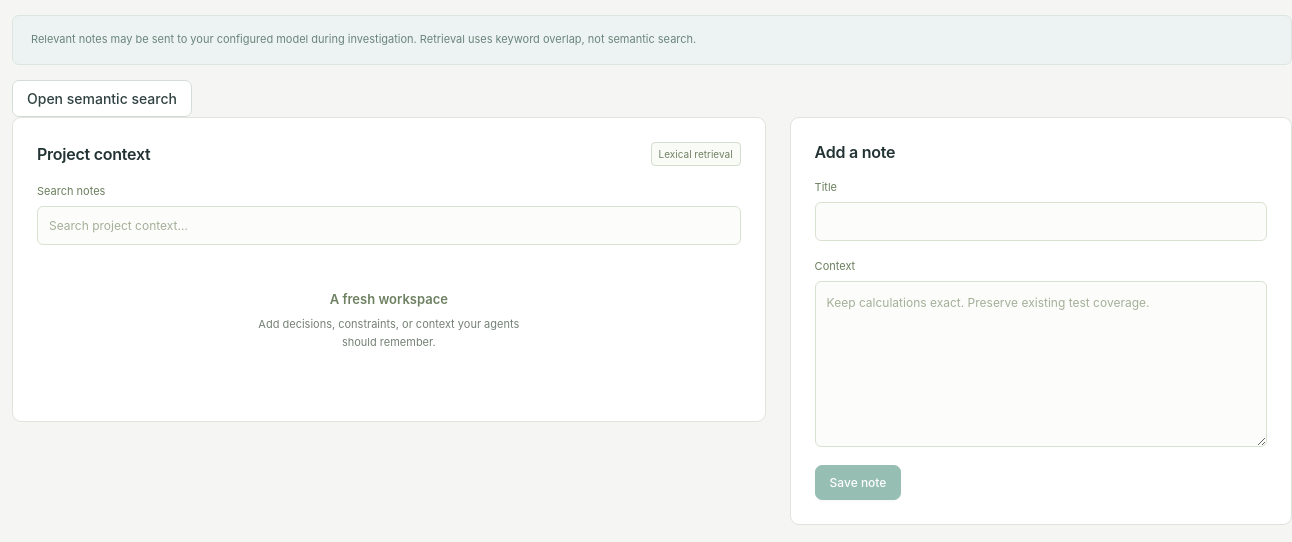
Test: a canceled memory search cannot replace newer results
expect the heading "A fresh workspace" is shown: met, box [330, 291, 448, 307]
Type "ab" into the search field labelled "Search notes".
click(389, 225); type("ab")  # box [37, 206, 741, 245]
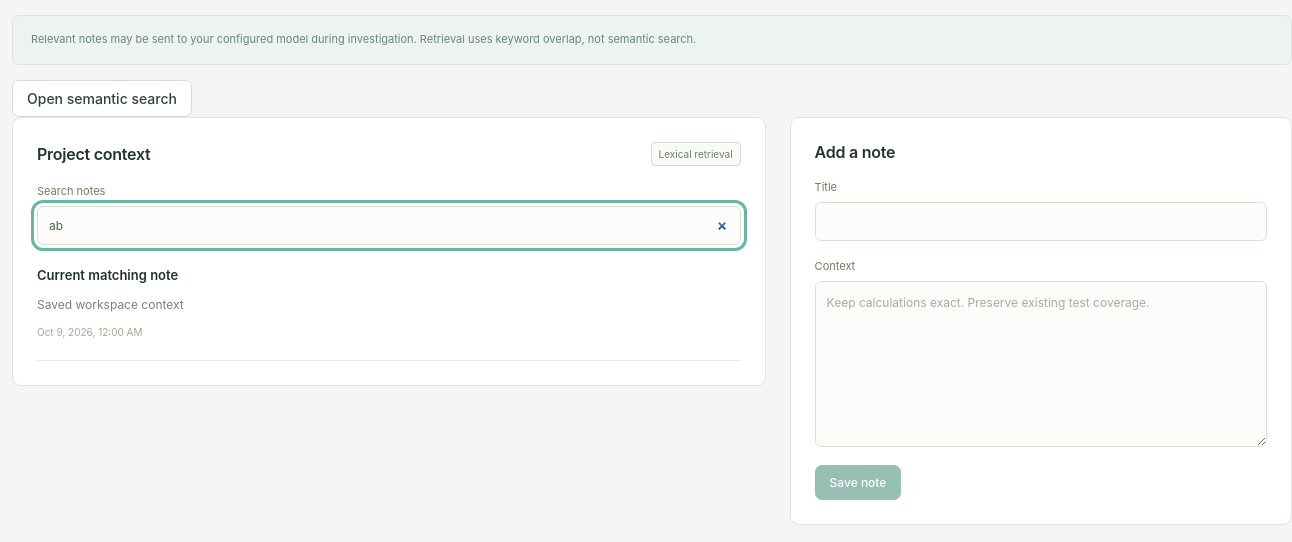
expect the heading "Current matching note" is shown: met, box [37, 267, 178, 283]
